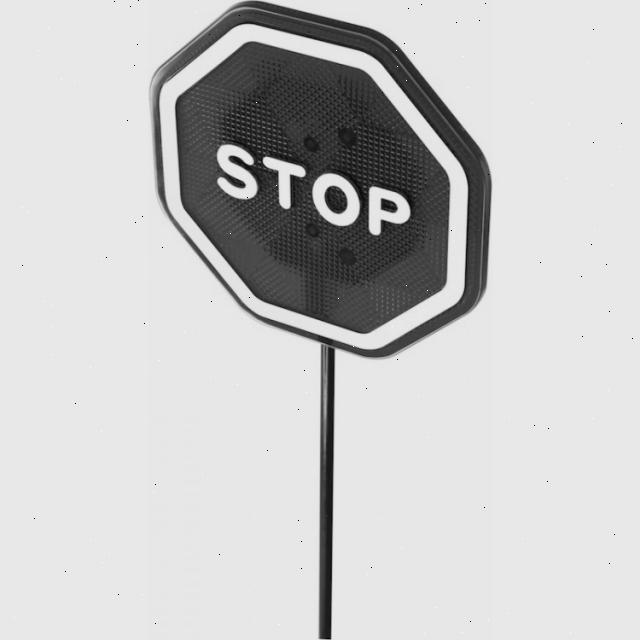Stop-sign: (134, 0, 513, 368)
